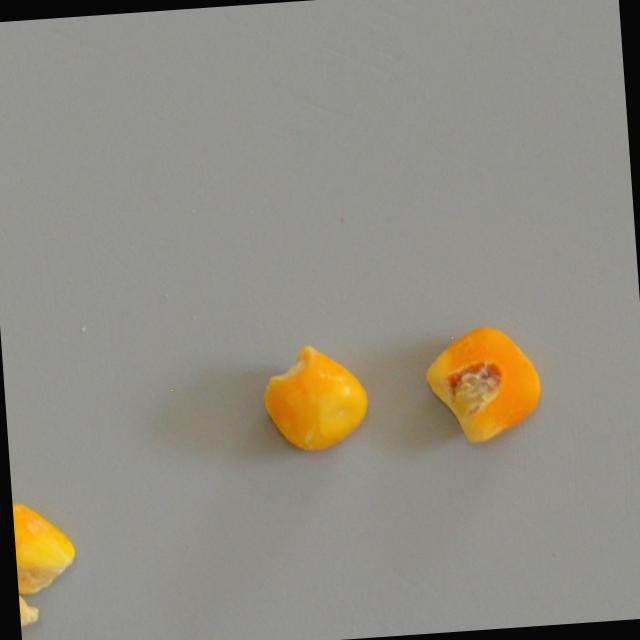dañado: (419, 322, 547, 447)
entero: (17, 575, 41, 640)
pelicula: (258, 339, 372, 455), (12, 496, 81, 596)
